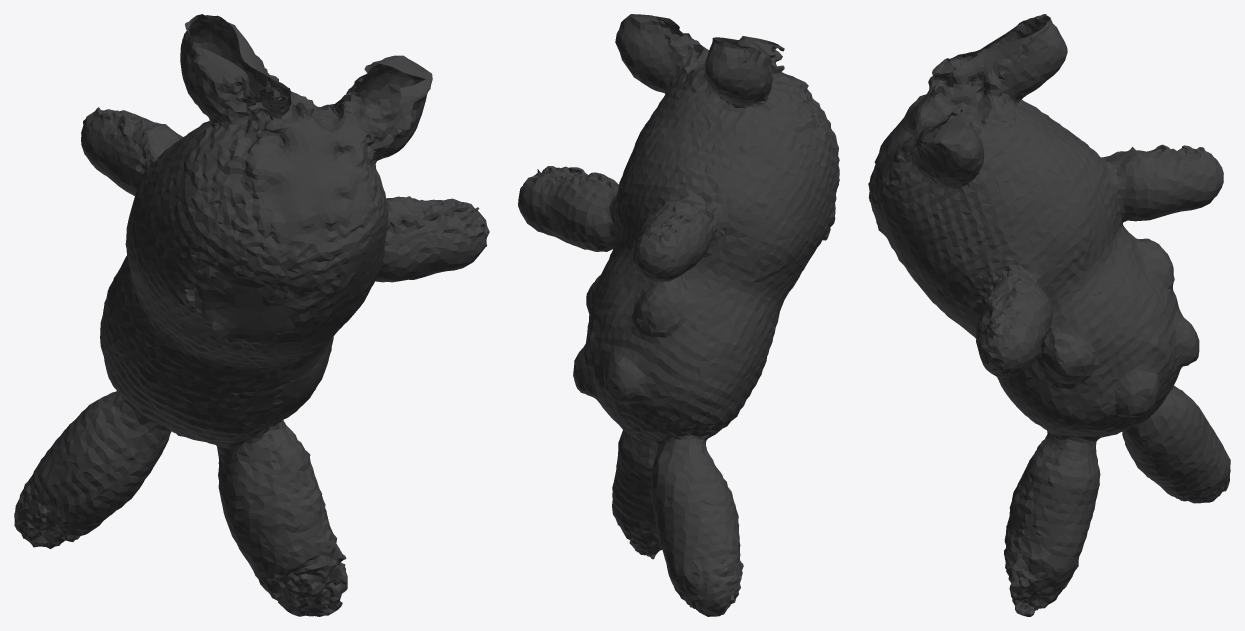
3 views of the same model, side by side, from view 1: azimuth 30°, elevation 25°; view 2: azimuth 150°, elevation 25°; view 3: azimuth 270°, elevation 25° (orthographic). The views are drawn at different scales.
Size of the model in its own units: 3.04 by 5.04 by 3.01.
